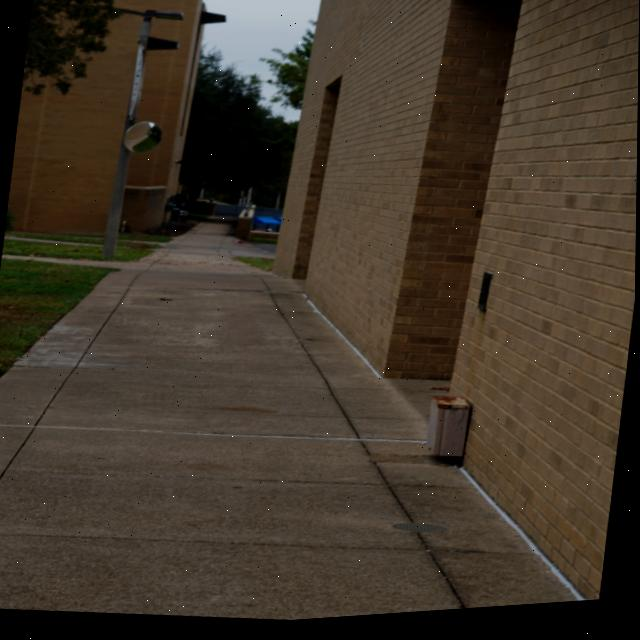Obstacle: (427, 402, 472, 464)
Sidewalk: (0, 221, 588, 624), (4, 235, 103, 248)
